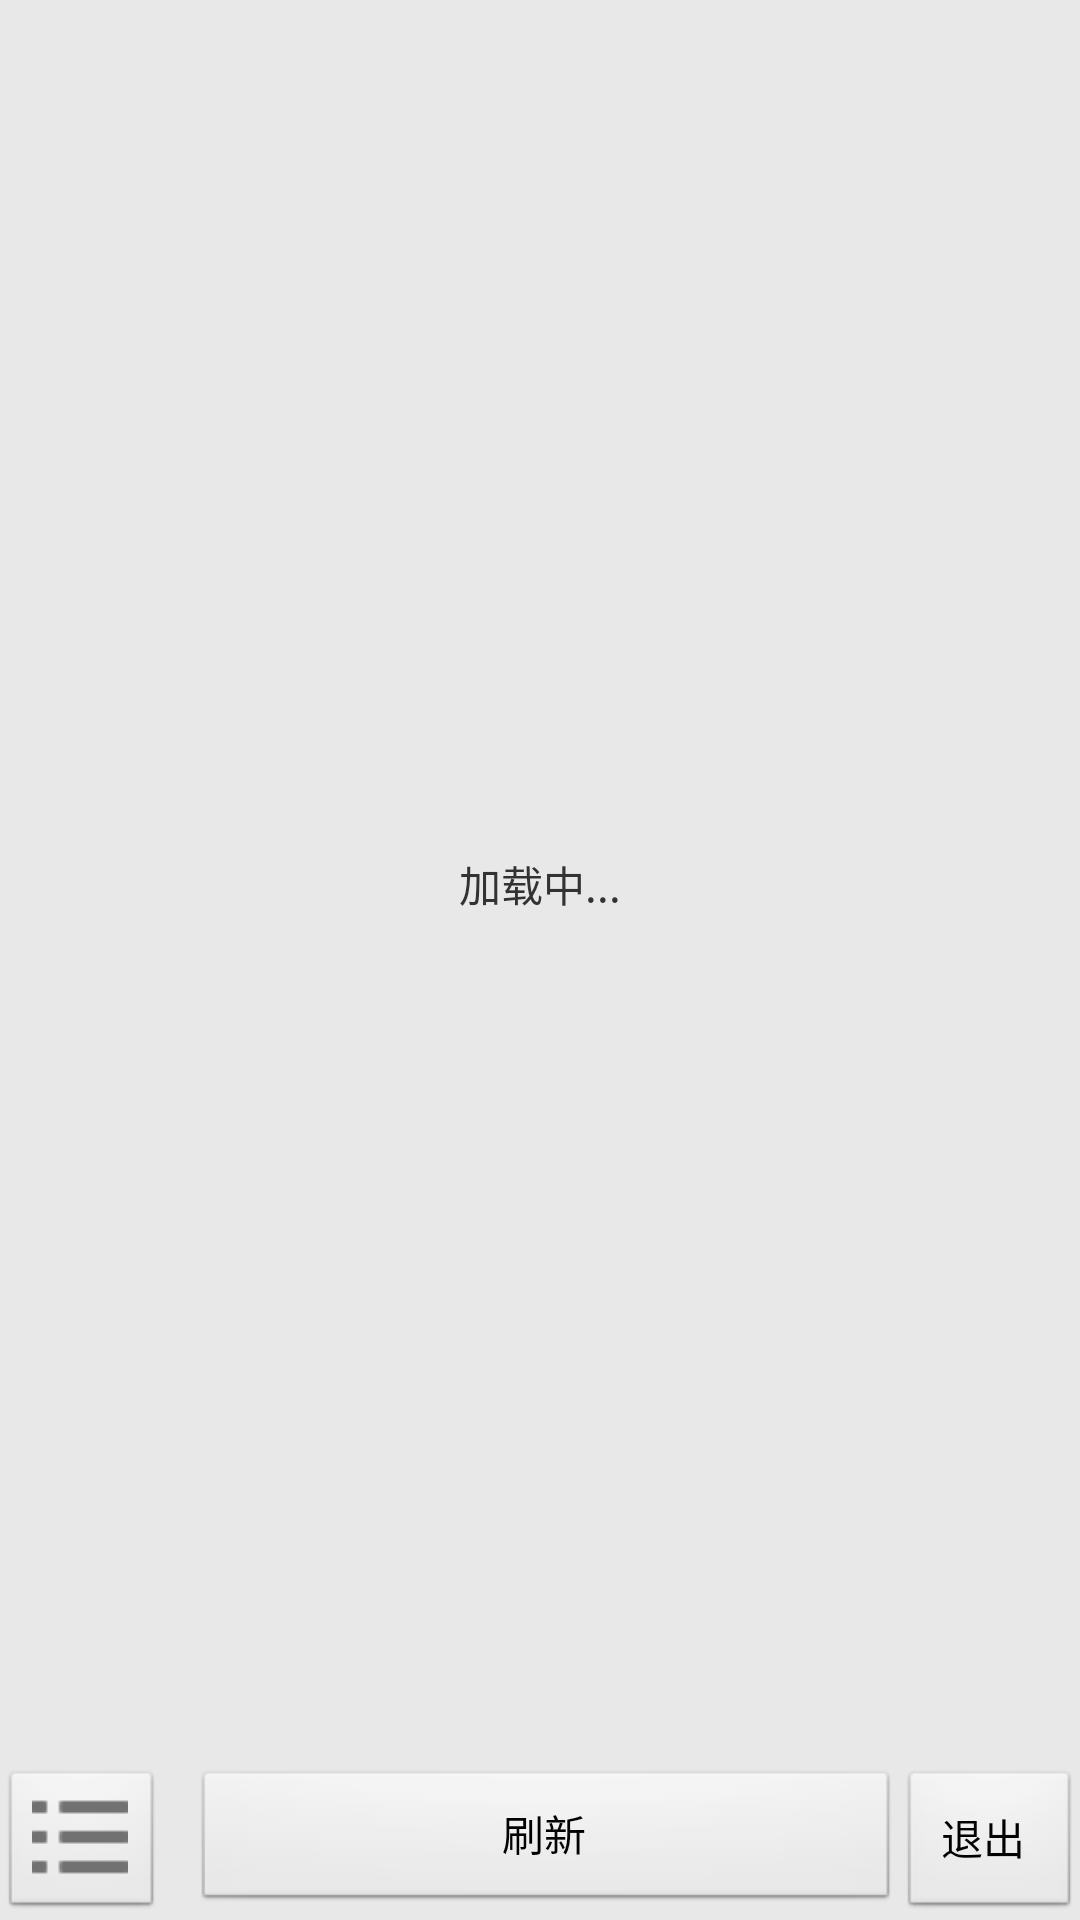

Point at icon controls on the screen. Image size 1080 × 1920, points as (x,y).
menu: (81,1841)
